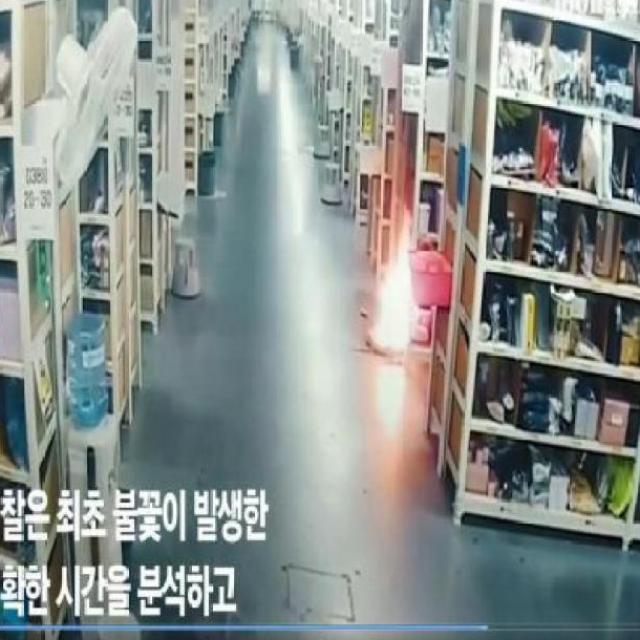smoke: (367, 242, 420, 353)
